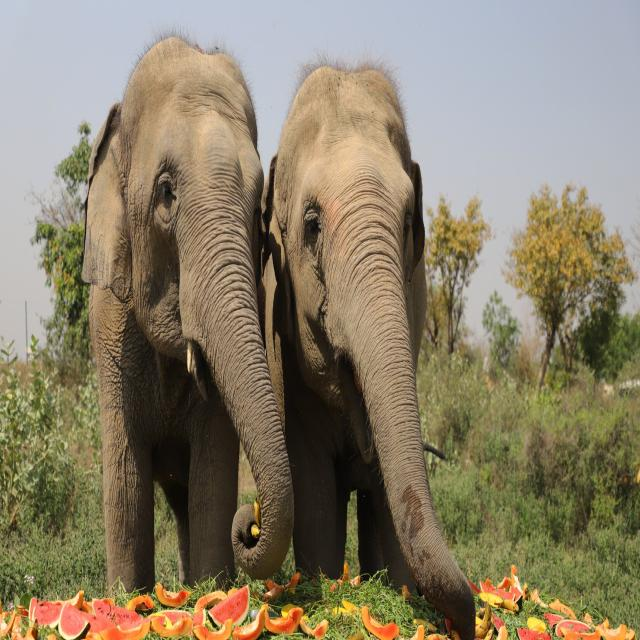Elephant: (266, 52, 491, 633), (78, 34, 288, 584)
